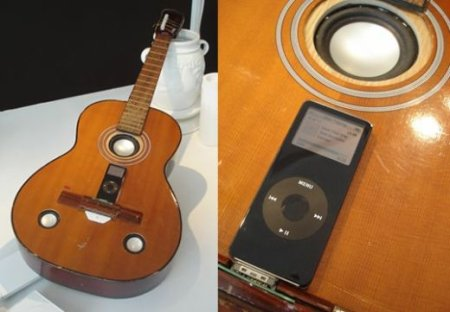guitar: (11, 7, 190, 300)
